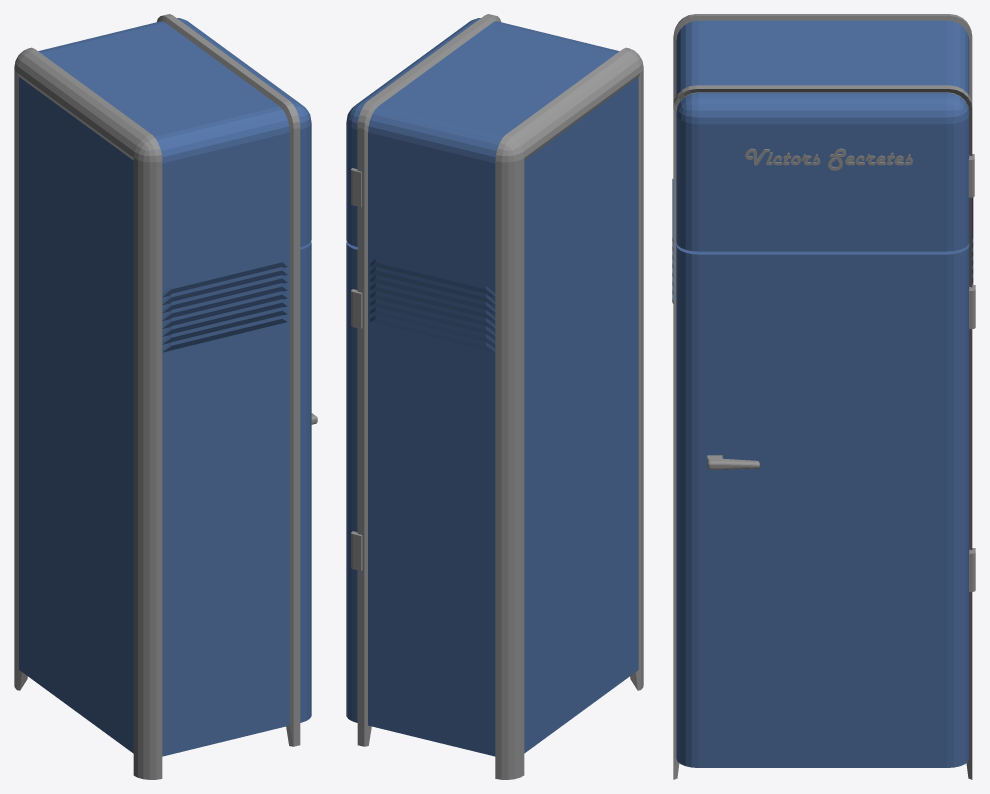
Rendered from Fridge.fbx.
3 renders of one model, left to right at view 1: azimuth 30°, elevation 25°; view 2: azimuth 150°, elevation 25°; view 3: azimuth 270°, elevation 25°, orthographic. The views are drawn at different scales.
Visible parts, largest first — view 1: Fridge, FridgeDoor, FridgeDoorUp; view 2: Fridge, FridgeDoor, FridgeDoorUp; view 3: FridgeDoor, FridgeDoorUp, Fridge, FridgeText, FridgeDoorHandle.
Part boxes in pixels (bbox=[...]): Fridge: bbox=[14, 14, 300, 779]; FridgeDoor: bbox=[300, 241, 311, 722]; FridgeDoorUp: bbox=[177, 18, 311, 246]; Fridge: bbox=[351, 14, 643, 779]; FridgeDoor: bbox=[346, 241, 357, 722]; FridgeDoorUp: bbox=[346, 18, 480, 246]; FridgeDoor: bbox=[676, 243, 969, 767]; FridgeDoorUp: bbox=[676, 92, 969, 251]; Fridge: bbox=[672, 14, 975, 779]; FridgeText: bbox=[745, 148, 912, 170]; FridgeDoorHandle: bbox=[707, 458, 759, 469].
Bounding box in the file's own units: 163 × 520 × 207.
